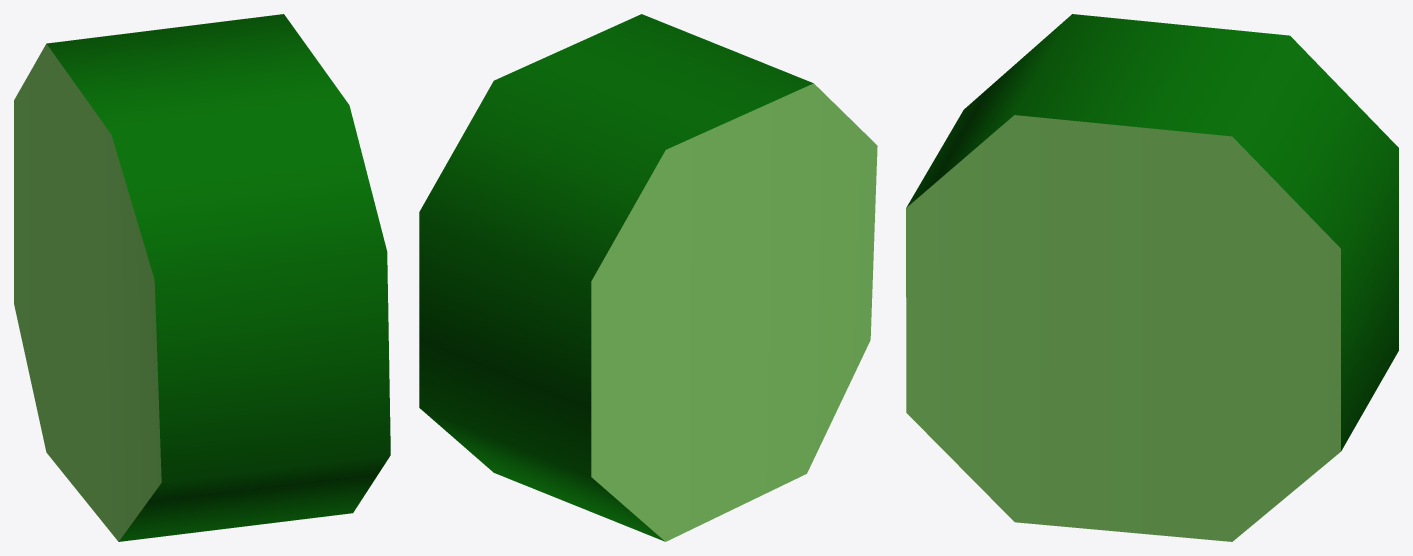
The model's file is mesh_CucumberSlice_Stage11.fbx.
The picture shows the model from 3 angles, left to right: view 1: azimuth 30°, elevation 25°; view 2: azimuth 150°, elevation 25°; view 3: azimuth 270°, elevation 25°; orthographic projection. The views are drawn at different scales.
Parts seen in each view (by area): view 1: mesh_CucumberSlice_Stage11; view 2: mesh_CucumberSlice_Stage11; view 3: mesh_CucumberSlice_Stage11.
Boxes of the visible parts, bbox=[...] form: mesh_CucumberSlice_Stage11: bbox=[14, 14, 390, 541]; mesh_CucumberSlice_Stage11: bbox=[419, 14, 877, 541]; mesh_CucumberSlice_Stage11: bbox=[906, 14, 1398, 541].
Bounding box in the file's own units: 0.027 × 0.0367 × 0.0404.
